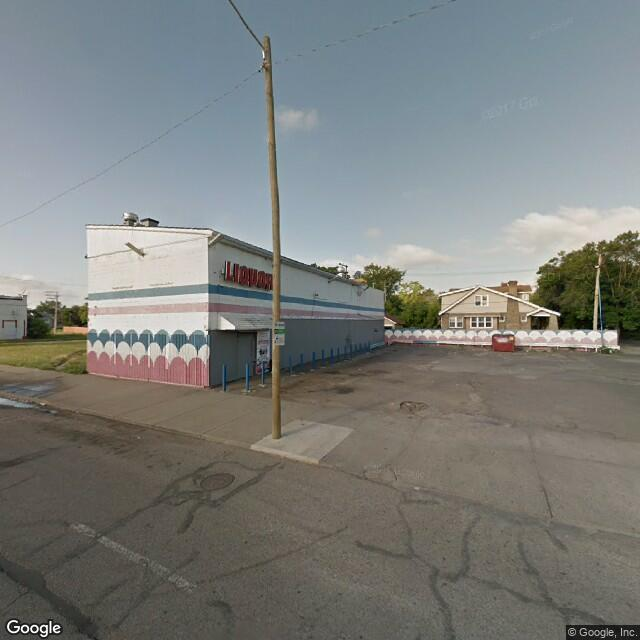litter: (37, 400, 47, 405)
